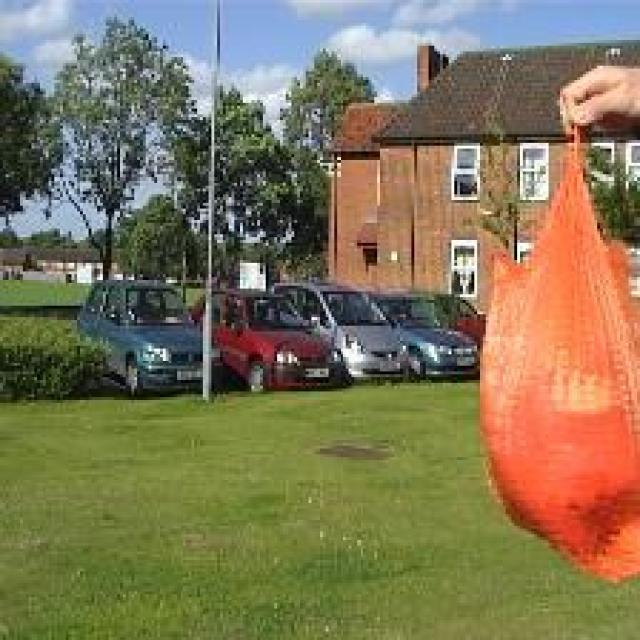other: (488, 145, 632, 582)
